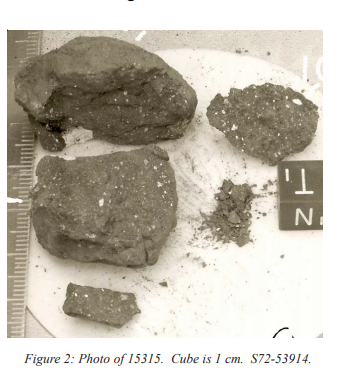Breccia: (9, 42, 215, 145), (21, 146, 187, 269), (199, 61, 318, 166), (56, 275, 152, 333)
